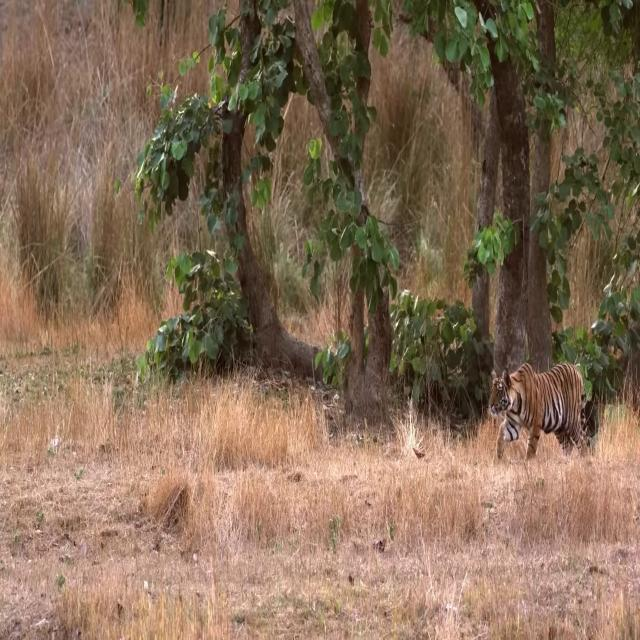tiger: (487, 360, 592, 460)
